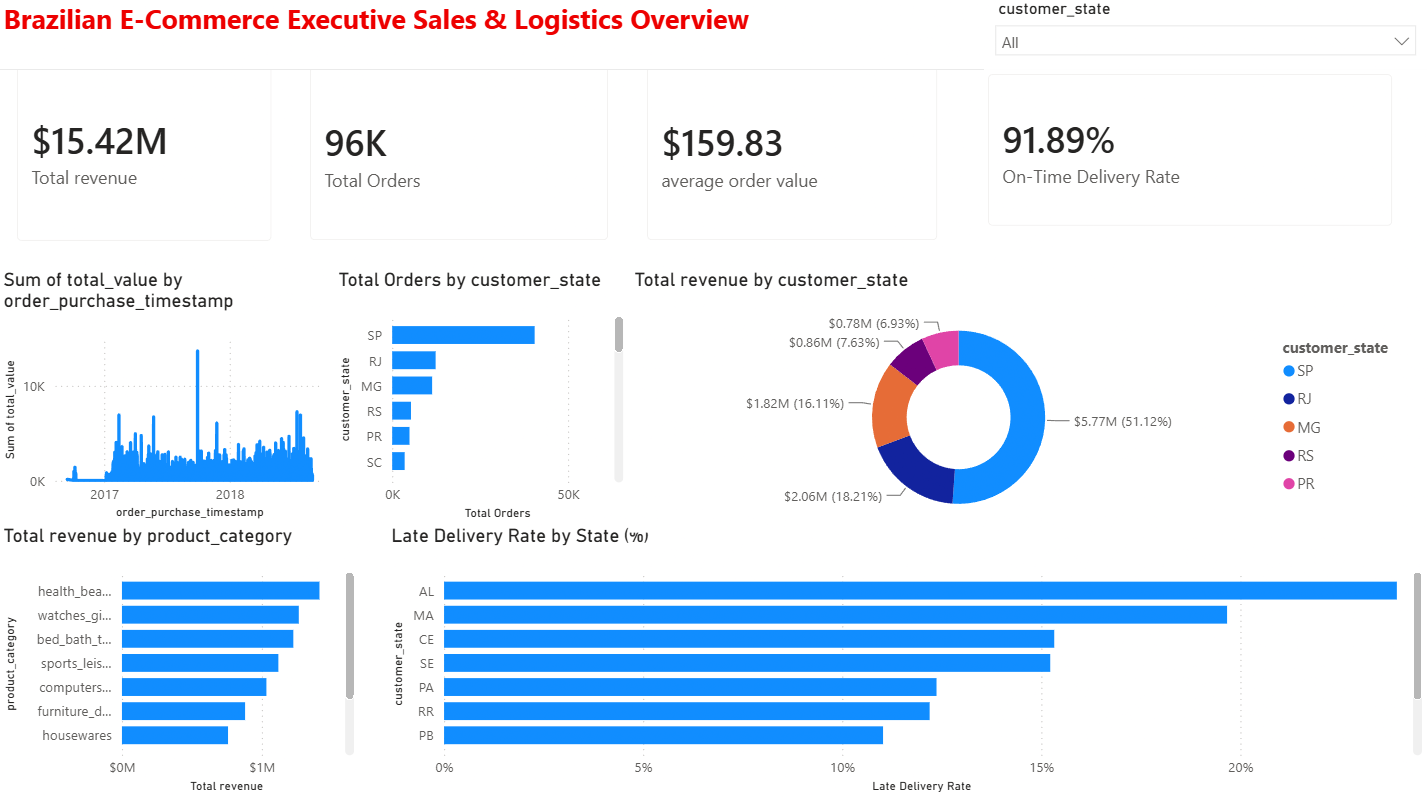

Layout of this report page (visuals, bound fields, positions):
{"tool":"powerbi","page":{"name":"Page 1","canvas":[1280,720],"ordinal":0},"visuals":[{"type":"cardVisual","fields":{"Data":["_Measures.Total revenue"]},"box":[0,41.2,262.4,197],"z":0},{"type":"cardVisual","fields":{"Data":["_Measures.Total Orders"]},"box":[262.4,47.5,301.8,190.7],"z":1000},{"type":"cardVisual","fields":{"Data":["_Measures.average order value"]},"box":[564.2,47.5,294.6,190.7],"z":2000},{"type":"cardVisual","fields":{"Data":["_Measures.On-Time Delivery Rate"]},"box":[869.6,54.6,396.8,170.2],"z":3000},{"type":"lineChart","fields":{"Category":["cleaned_master_sales.order_purchase_timestamp"],"Y":["Sum(cleaned_master_sales.total_value)"]},"box":[0,245.1,299.6,229.5],"z":4000},{"type":"clusteredBarChart","fields":{"Category":["cleaned_master_sales.product_category"],"Y":["_Measures.Total revenue"]},"box":[0,474.7,323.9,245.1],"z":5000},{"type":"barChart","fields":{"Category":["cleaned_master_sales.customer_state"],"Y":["_Measures.Total Orders"]},"box":[300,245,265,230],"z":6000},{"type":"clusteredBarChart","title":"Late Delivery Rate by State (%)","fields":{"Category":["cleaned_master_sales.customer_state"],"Y":["_Measures.Late Delivery Rate"]},"box":[347.2,474.7,932.8,245.1],"z":7000},{"type":"donutChart","fields":{"Category":["cleaned_master_sales.customer_state"],"Y":["_Measures.Total revenue"]},"box":[565.1,245.1,701.3,237.3],"z":8000},{"type":"textbox","box":[0,0,1280,68.1],"z":9000},{"type":"slicer","fields":{"Values":["cleaned_master_sales.customer_state"]},"box":[883.2,0,396.8,68.1],"z":10000}]}

Visuals, with their boxes in screenshot pixels (x1, y1, x2, y2), scaled from the page's 1280x720 canvas onto the 1428x797 screenshot:
cardVisual - _Measures.Total revenue: 0:46:293:264
cardVisual - _Measures.Total Orders: 293:53:629:264
cardVisual - _Measures.average order value: 629:53:958:264
cardVisual - _Measures.On-Time Delivery Rate: 970:60:1413:249
lineChart - cleaned_master_sales.order_purchase_timestamp x Sum(cleaned_master_sales.total_value): 0:271:334:525
clusteredBarChart - cleaned_master_sales.product_category x _Measures.Total revenue: 0:525:361:796
barChart - cleaned_master_sales.customer_state x _Measures.Total Orders: 335:271:630:526
"Late Delivery Rate by State (%)" clusteredBarChart: 387:525:1427:796
donutChart - cleaned_master_sales.customer_state x _Measures.Total revenue: 630:271:1413:534
textbox: 0:0:1427:75
slicer - cleaned_master_sales.customer_state: 985:0:1427:75
